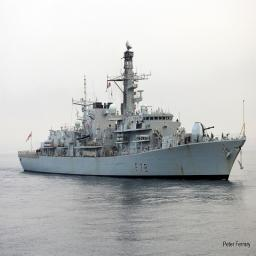Fragata: (17, 39, 250, 185)
